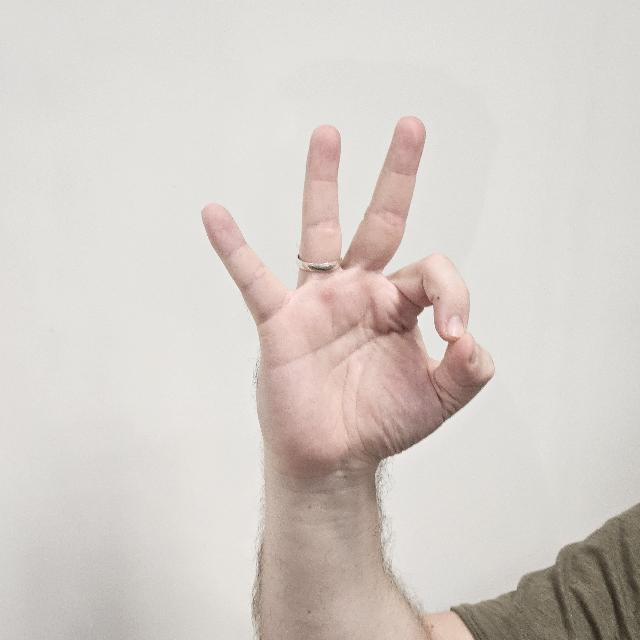Bolinha: (192, 117, 506, 491)
